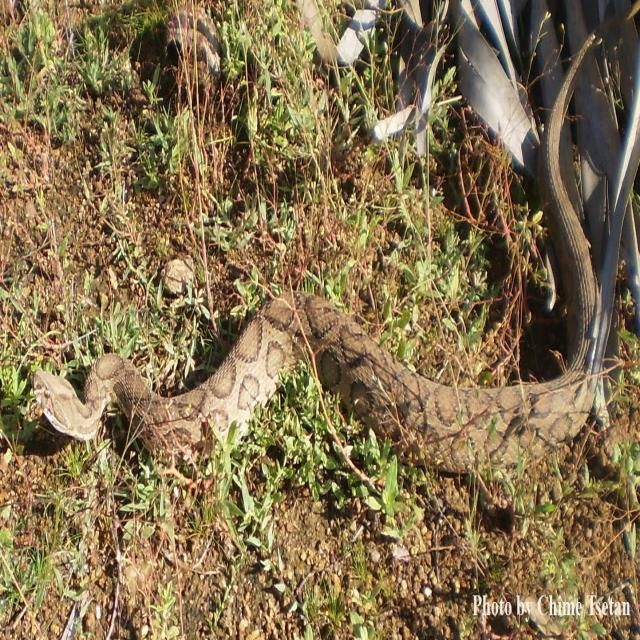Snake: (31, 2, 639, 487)
